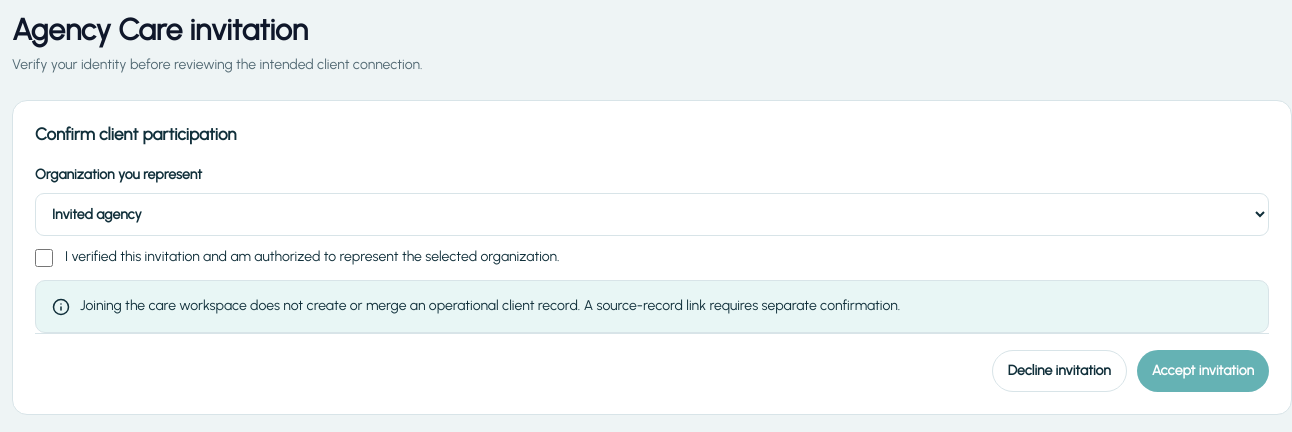
Scenario: selects the invited internal agency and requires explicit acceptance by its current administrator
The image size is (1292, 432).
Expected: the dropdown labelled "Organization you represent" shows "Invited agency", [35, 193, 1269, 236]
Expected: the button "Accept invitation" is disabled, [1137, 350, 1269, 392]
Click the checkbox: (44, 258) [35, 249, 53, 267]
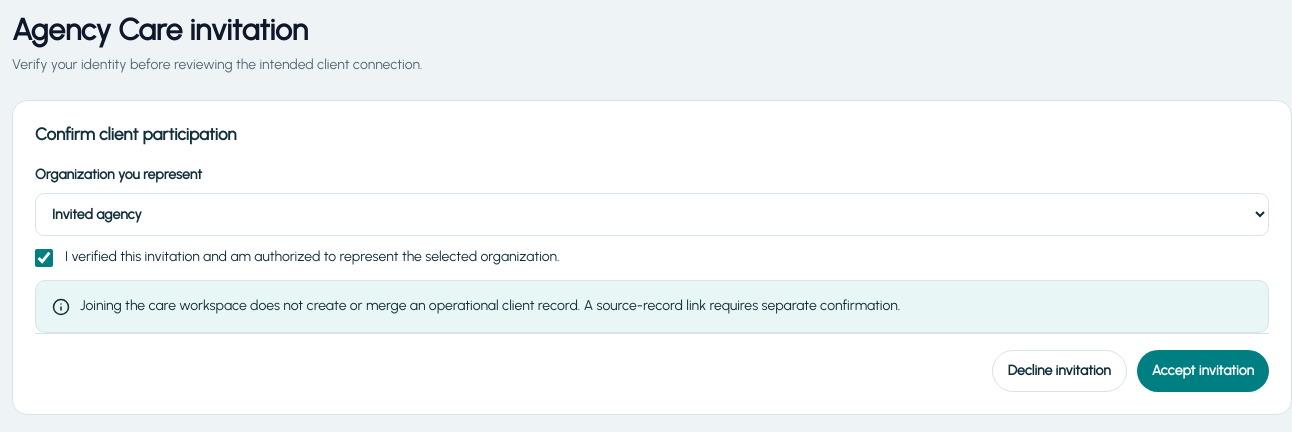
Expected: the button "Accept invitation" is enabled, [1137, 350, 1269, 392]
Select "Other agency" in the dropdown labelled "Organization you represent": (652, 215) [35, 193, 1269, 236]
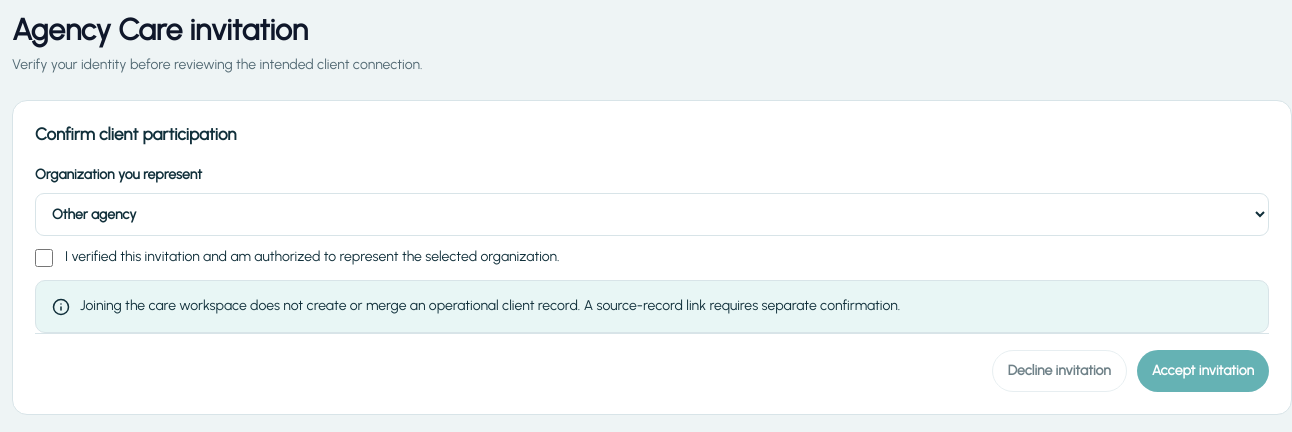
Expected: the checkbox is not checked, [35, 249, 53, 267]
Expected: the button "Decline invitation" is disabled, [992, 350, 1127, 392]
Select "Invited agency" in the dropdown labelled "Organization you represent": (652, 215) [35, 193, 1269, 236]
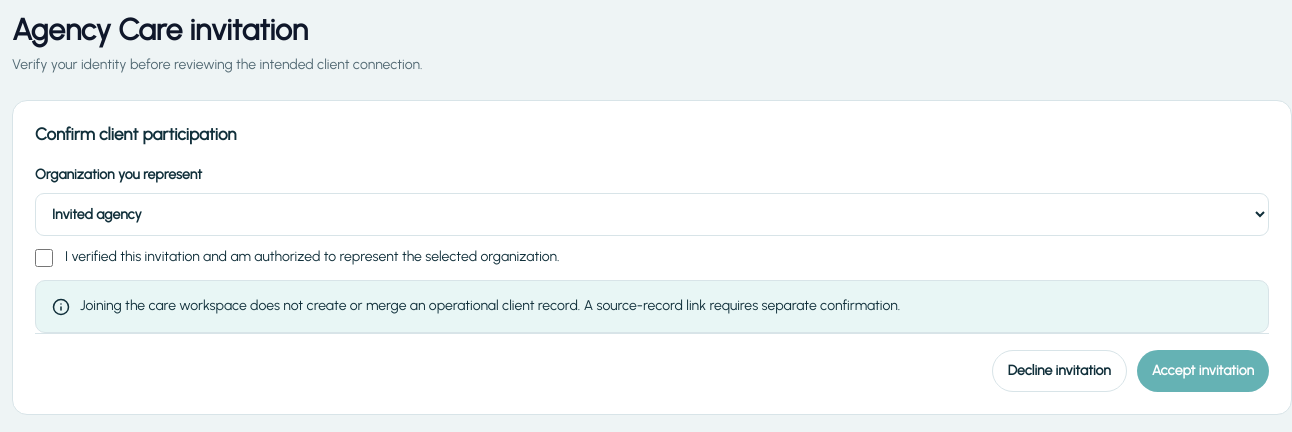
Click the checkbox: (44, 258) [35, 249, 53, 267]
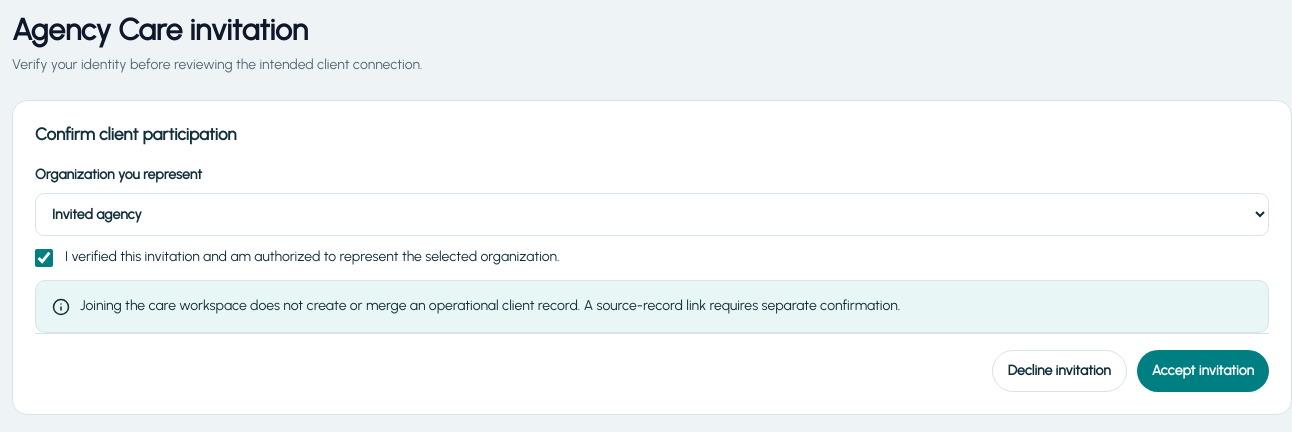
Expected: the button "Accept invitation" is enabled
Click the button "Accept invitation": (1203, 371) [1137, 350, 1269, 392]
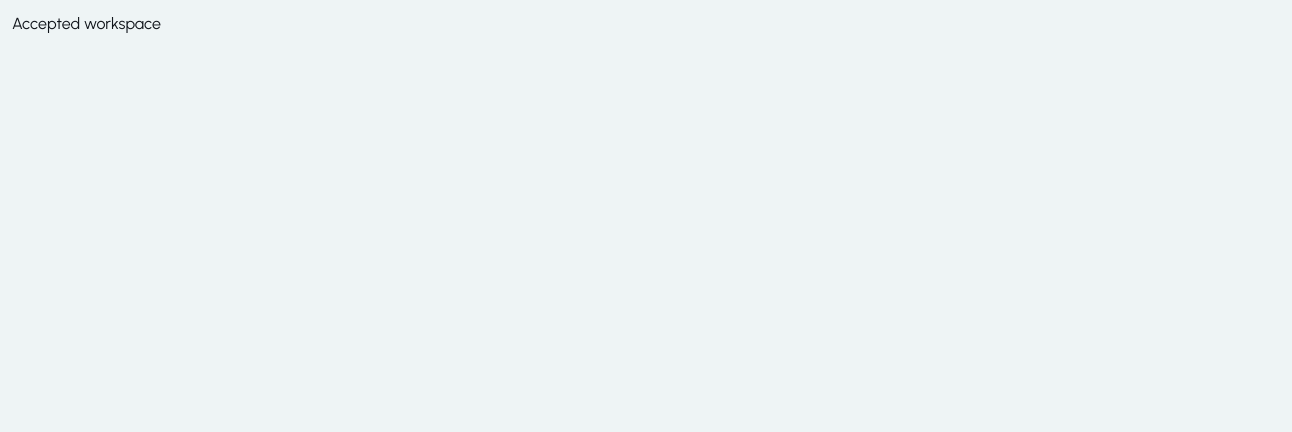
Expected: the text "Accepted workspace" is shown, [12, 14, 161, 33]
